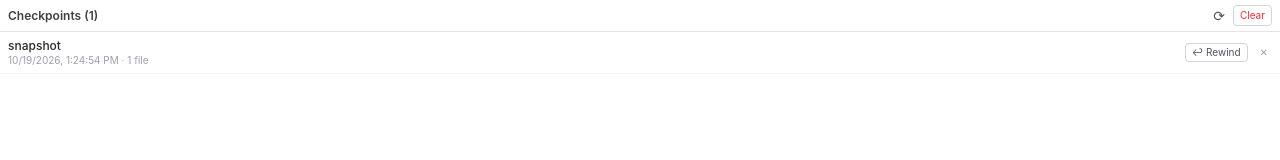
Test case: CheckpointPanel (#435) › rewinds a checkpoint and reports restored files
Click the button with aria-label "Rewind to snapshot" at {"x": 1216, "y": 53}, box left=1185, top=43, right=1248, bottom=62
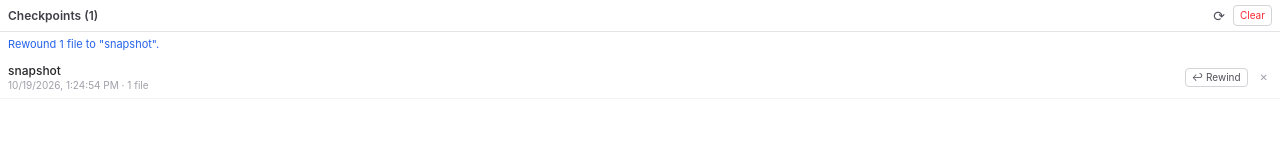
Check: the text "Rewound 1 file to \"snapshot\"." is shown, box left=8, top=37, right=159, bottom=51
